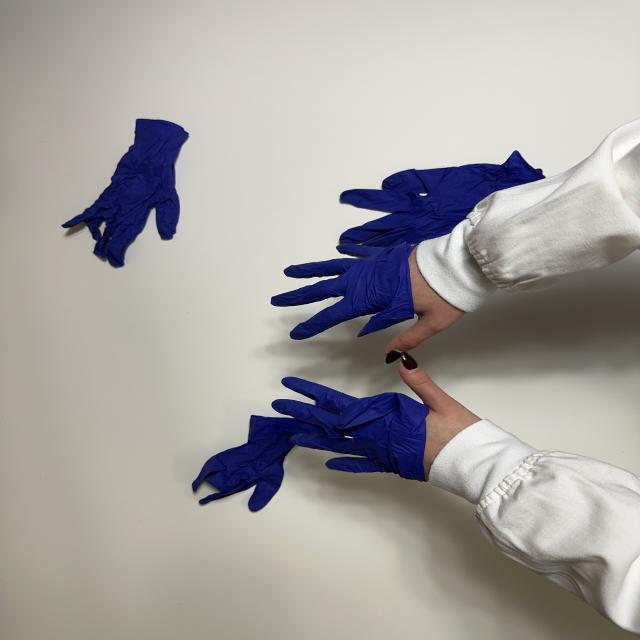glove_partial: (272, 354, 489, 484), (271, 241, 469, 365)
